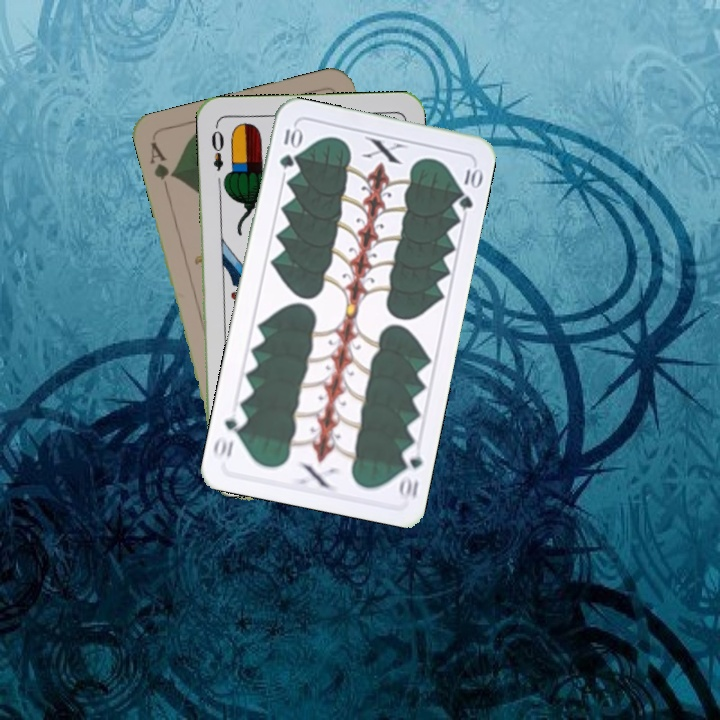EO: (207, 121, 226, 173)
G10: (394, 441, 425, 503), (275, 122, 304, 171)
GA: (146, 138, 178, 183)
